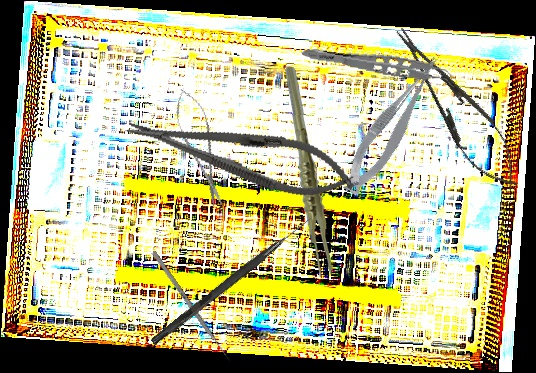Hook Surgical: (150, 212, 314, 348)
Micro Scissor: (329, 51, 458, 201), (167, 84, 234, 213)
Needle Holder: (381, 16, 533, 200), (120, 98, 362, 210)
Pusher: (151, 250, 232, 363)
Tissue Forceps: (280, 67, 337, 277), (299, 44, 459, 90)
